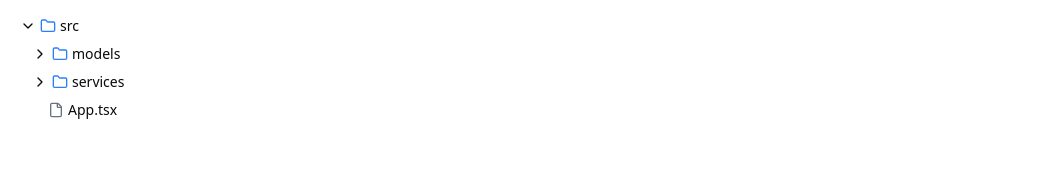
Test case: Integration Test: File Tree Navigation › should display files across multiple folder levels
Check: the list item with test id "file-App.tsx" is shown, box [48,100,117,119]
Check: the list item with test id "folder-models" is shown, box [12,40,1036,68]
Note: Expand services folder
Click the list item with test id "folder-services": (98, 82) [12,68,1036,96]
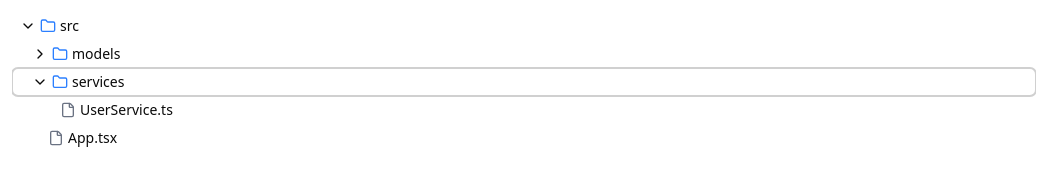
Check: the list item with test id "file-UserService.ts" is shown, box [60,100,173,119]
